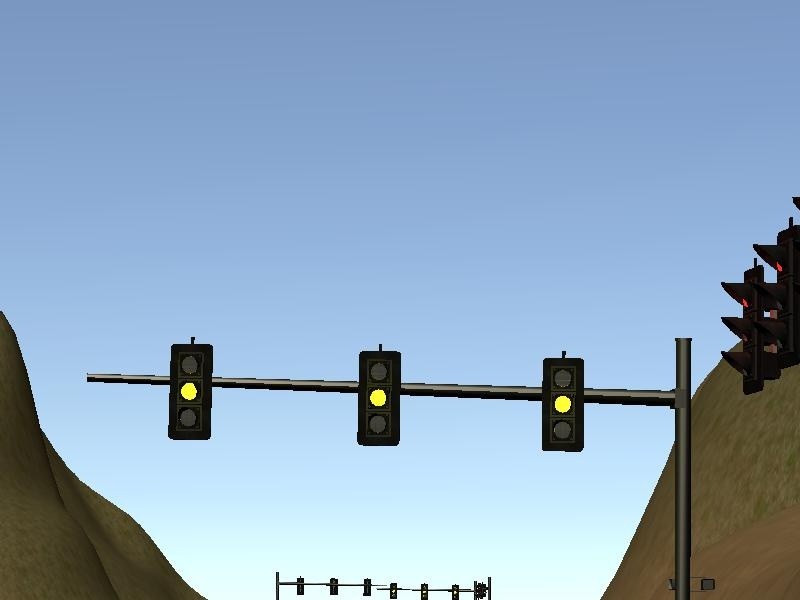YELLOW: (165, 344, 215, 443), (352, 347, 402, 446), (539, 354, 589, 453)
